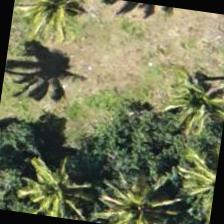Kelapa_Sawit: (9, 136, 110, 222), (100, 161, 200, 223), (161, 126, 221, 222), (13, 0, 111, 55)
